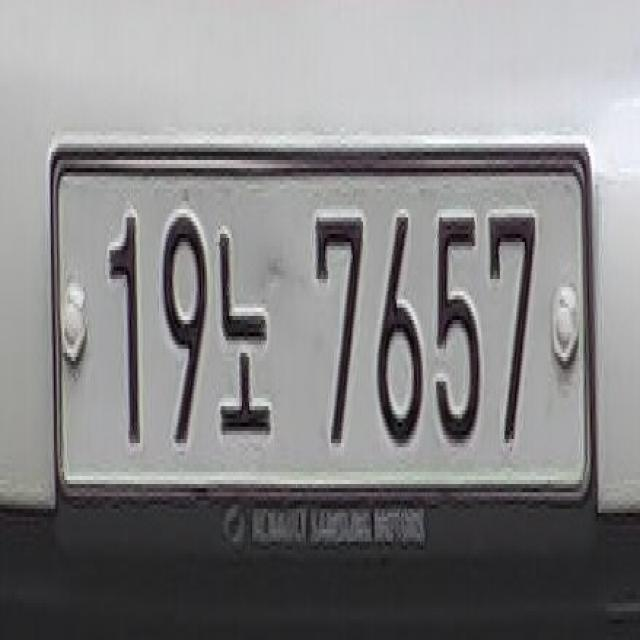1: (105, 188, 147, 460)
5: (432, 201, 484, 455)
6: (372, 201, 428, 451)
7: (310, 193, 372, 459), (485, 184, 544, 456)
9: (158, 197, 215, 464)
license_plate: (42, 119, 601, 554)
no: (213, 222, 274, 447)
